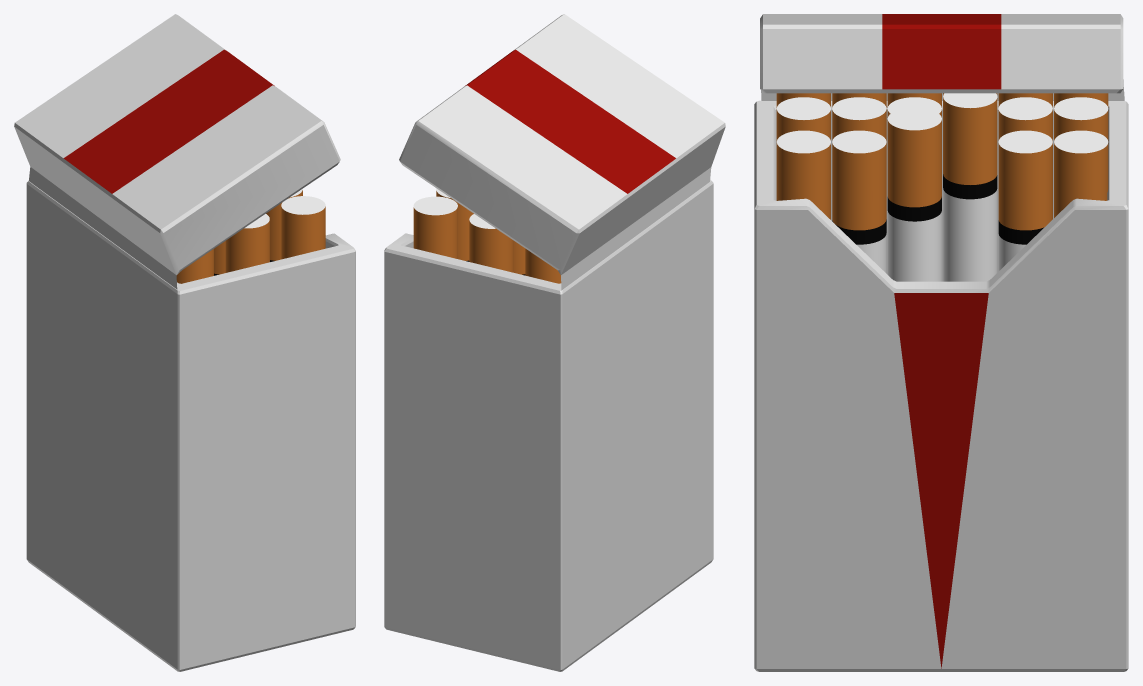
File: dabbi.fbx
The picture shows the model from 3 angles, left to right: view 1: azimuth 30°, elevation 25°; view 2: azimuth 150°, elevation 25°; view 3: azimuth 270°, elevation 25°; orthographic projection. The views are drawn at different scales.
Parts seen in each view (by area): view 1: Cube.002, Cube.001, Cube.003, Cylinder.002; view 2: Cube.002, Cube.001, Cube.003, Cylinder.002; view 3: Cube.002, Cylinder.002, Cube.001, Cube.004, Cube.003.
Boxes of the visible parts, left/top/right/bottom form: Cube.002: left=26, top=180, right=355, bottom=671; Cube.001: left=14, top=14, right=340, bottom=289; Cube.003: left=63, top=49, right=274, bottom=193; Cylinder.002: left=176, top=188, right=325, bottom=283; Cube.002: left=384, top=180, right=713, bottom=671; Cube.001: left=399, top=14, right=725, bottom=290; Cube.003: left=465, top=49, right=675, bottom=193; Cylinder.002: left=413, top=188, right=561, bottom=283; Cube.002: left=754, top=100, right=1128, bottom=671; Cylinder.002: left=776, top=93, right=1108, bottom=281; Cube.001: left=760, top=14, right=1124, bottom=100; Cube.004: left=894, top=293, right=988, bottom=668; Cube.003: left=882, top=14, right=1001, bottom=89.
Bounding box in the file's own units: 82.86 × 211 × 114.
